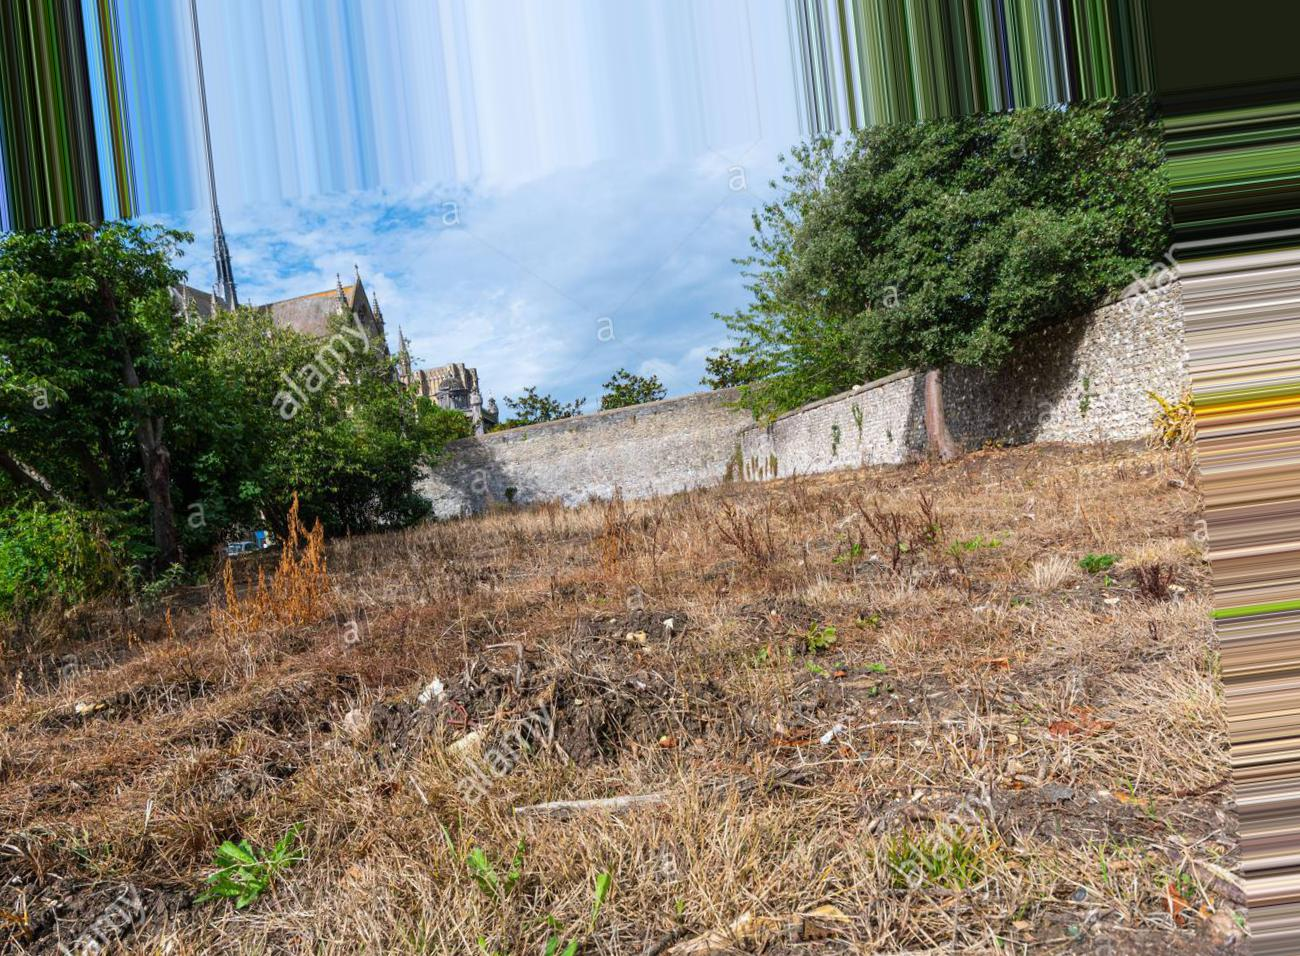patch: (910, 609, 1016, 668), (554, 513, 652, 533)
